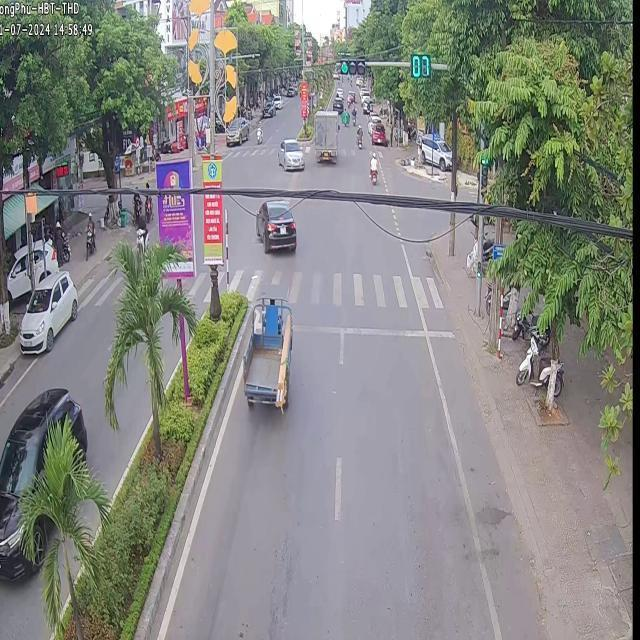car: (242, 294, 290, 408), (254, 196, 294, 251), (313, 109, 337, 161), (276, 138, 303, 169)
green_light: (338, 56, 364, 74), (479, 151, 487, 184)
motobike: (368, 149, 377, 182)
stop_line: (291, 322, 453, 336)
